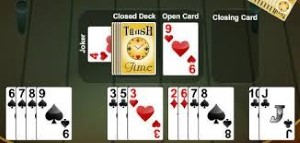JackOfClubs: (258, 86, 297, 143)
NineOfHearts: (161, 21, 200, 78)
NineOfSpades: (35, 85, 74, 142)
TenOfClubs: (245, 85, 260, 139)
